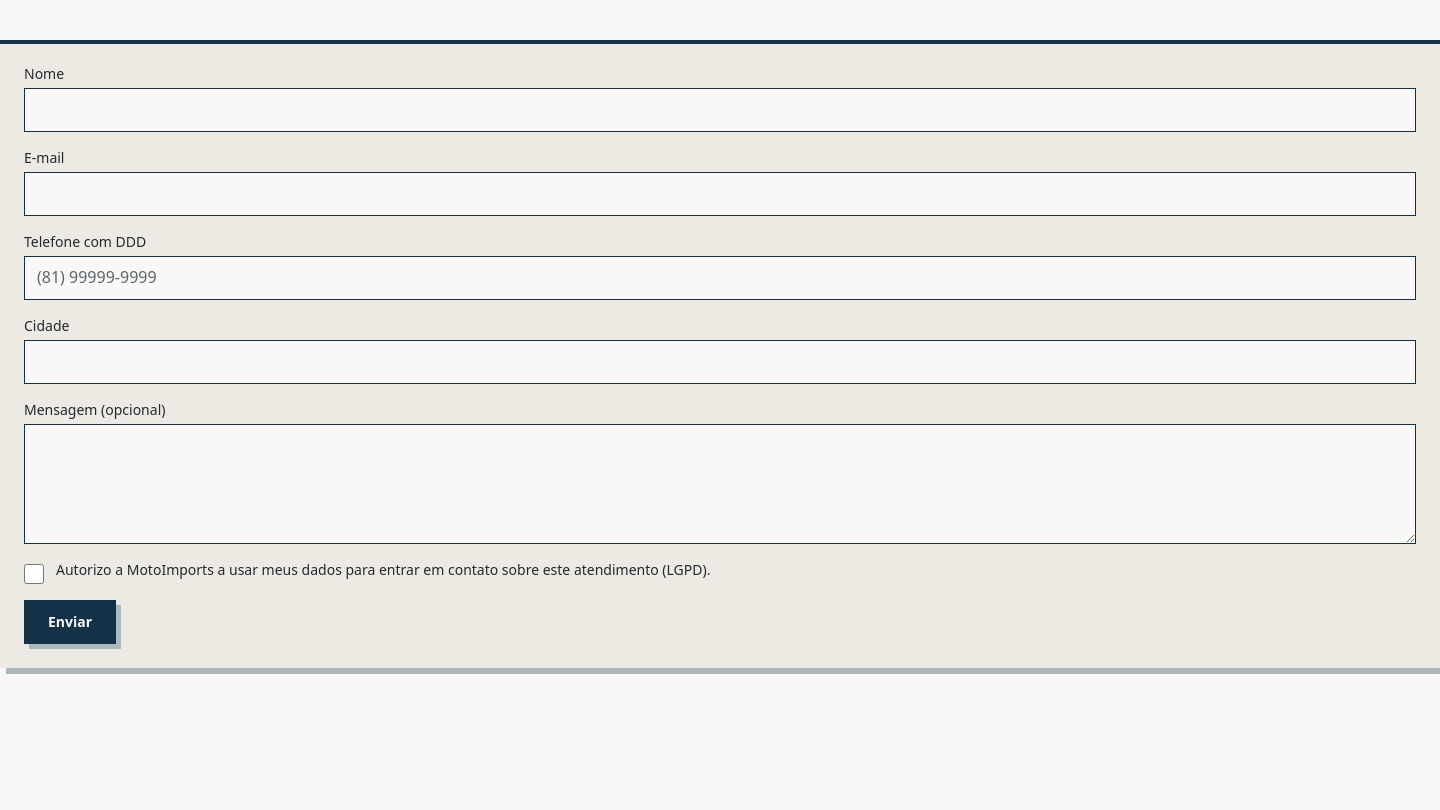
Scenario: RF-01 · LeadForm › exige a cidade
The image size is (1440, 810).
Type "Maria Silva" into the field labelled "Nome" at (720, 110), box top-left (24, 88), bottom-right (1416, 132)
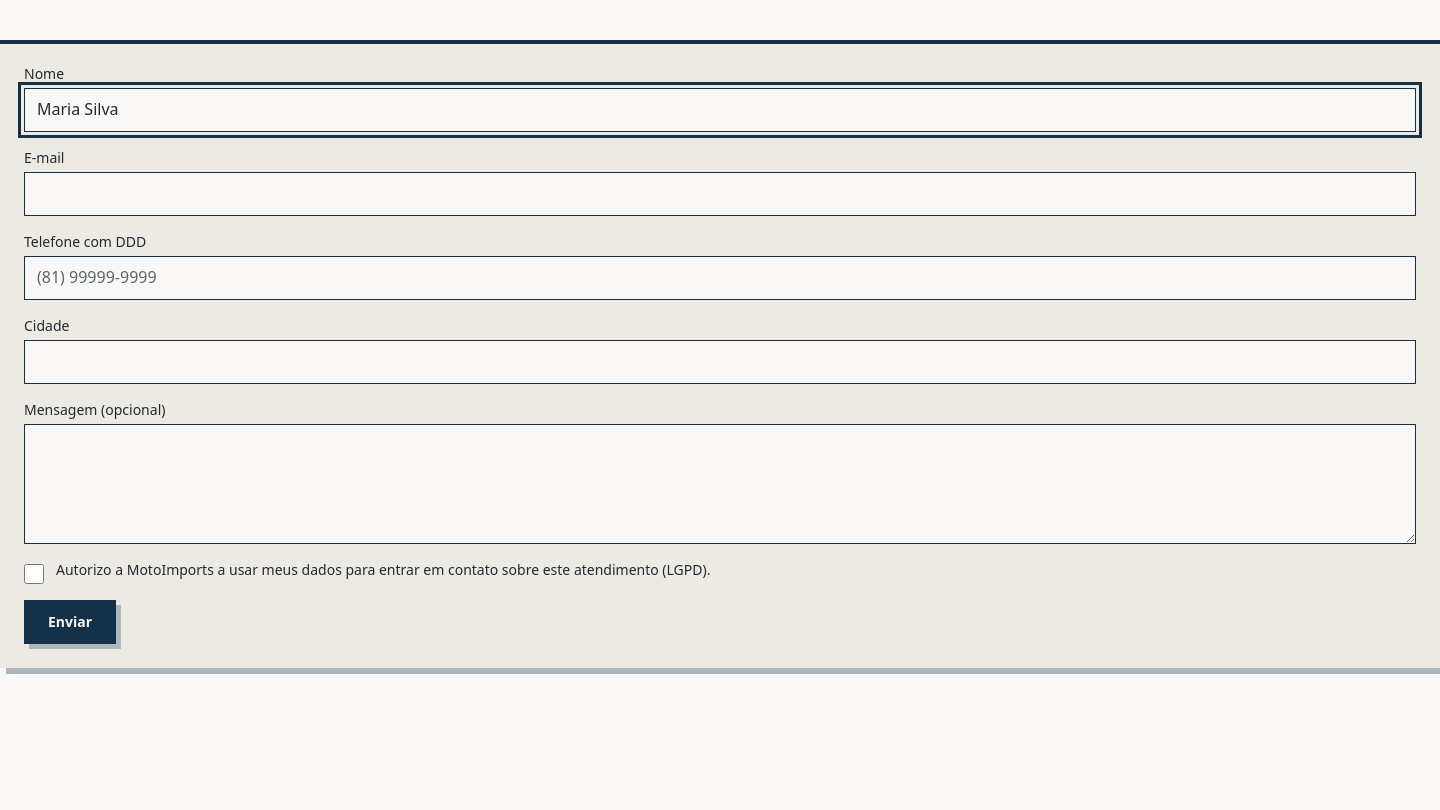
Type "m@e.com" into the field labelled "E-mail" at (720, 194), box top-left (24, 172), bottom-right (1416, 216)
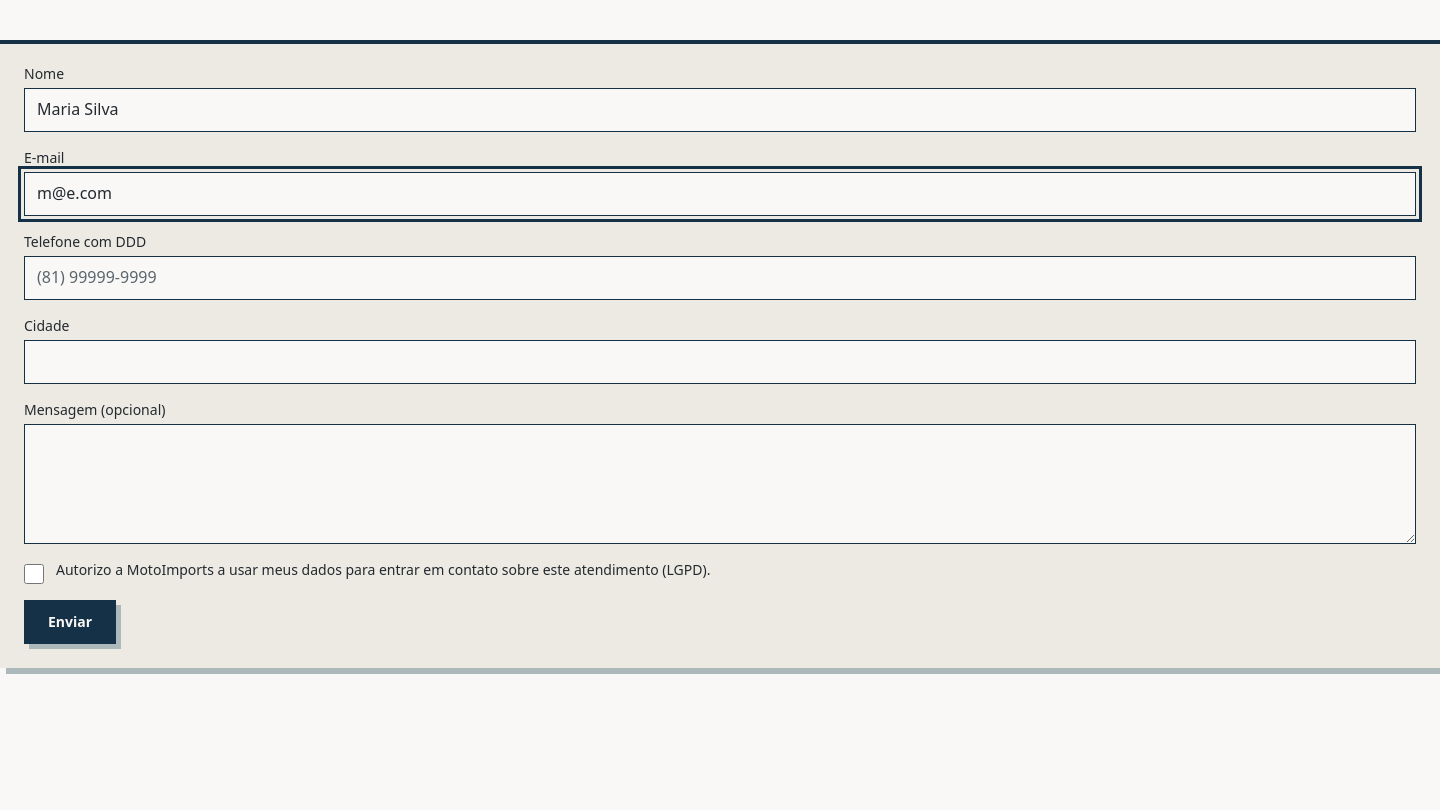
Type "8133334444" into the field labelled "Telefone com DDD" at (720, 278), box top-left (24, 256), bottom-right (1416, 300)
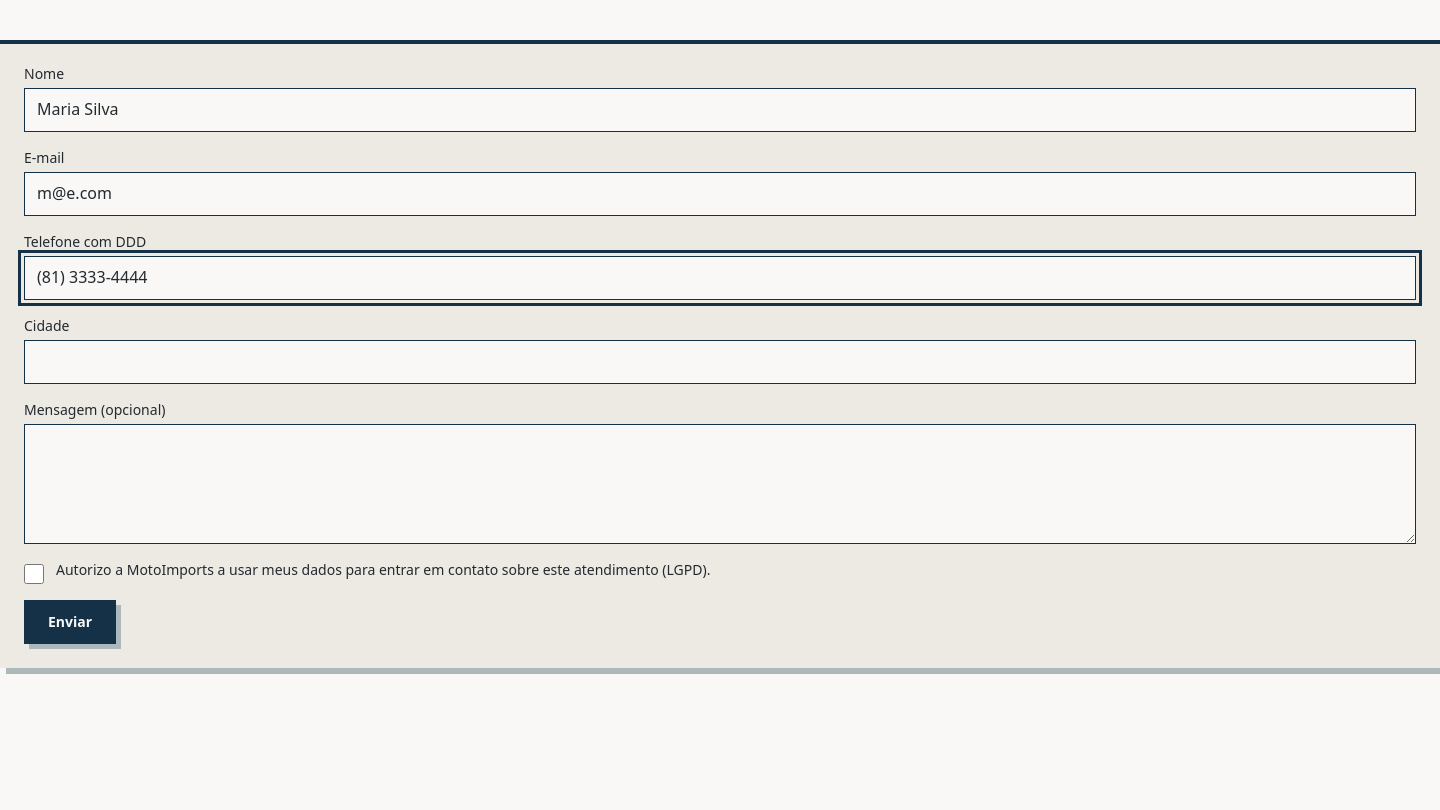
Click the checkbox labelled "Autorizo a MotoImports" at (34, 574), box top-left (24, 564), bottom-right (44, 584)
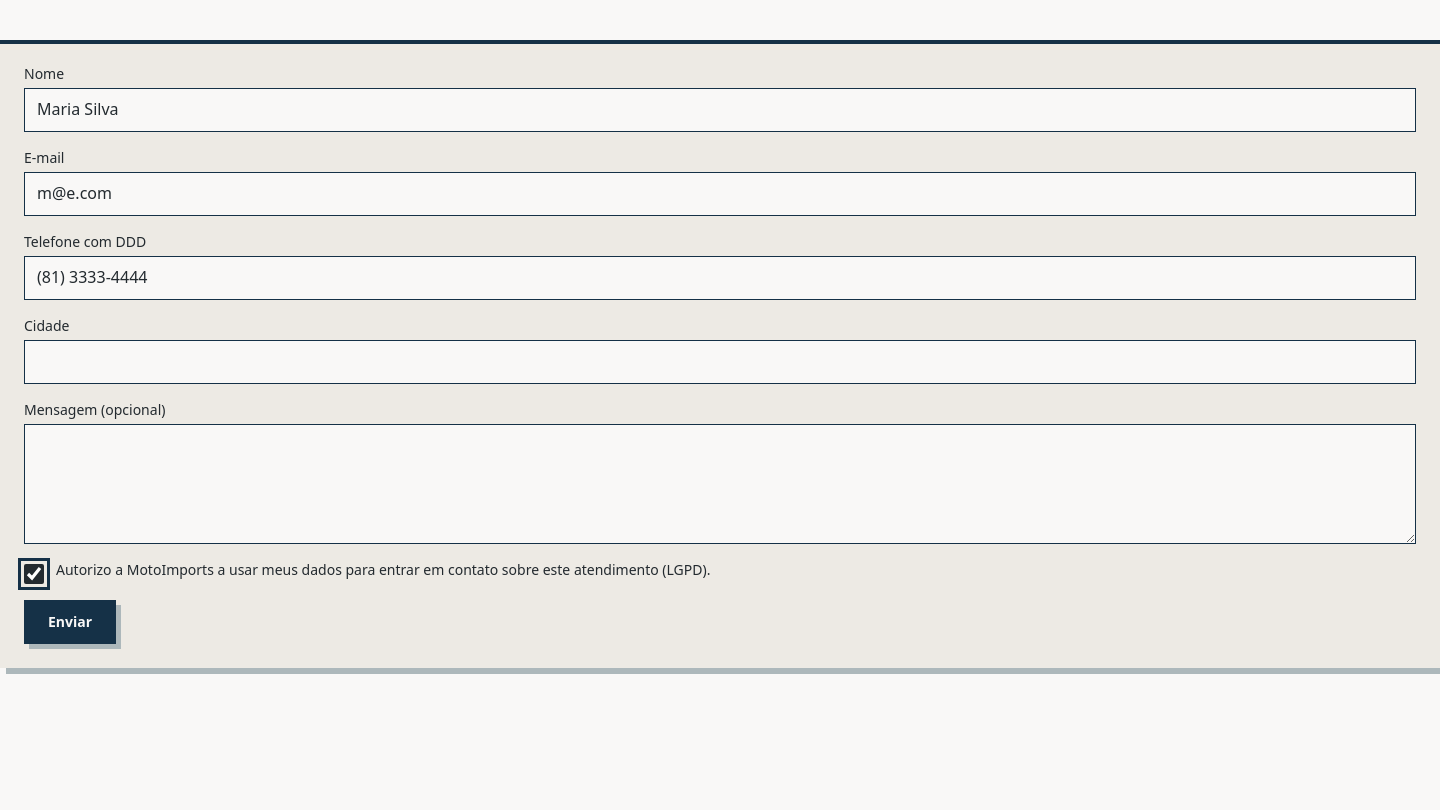
Click the button "Enviar" at (70, 622), box top-left (24, 600), bottom-right (116, 644)
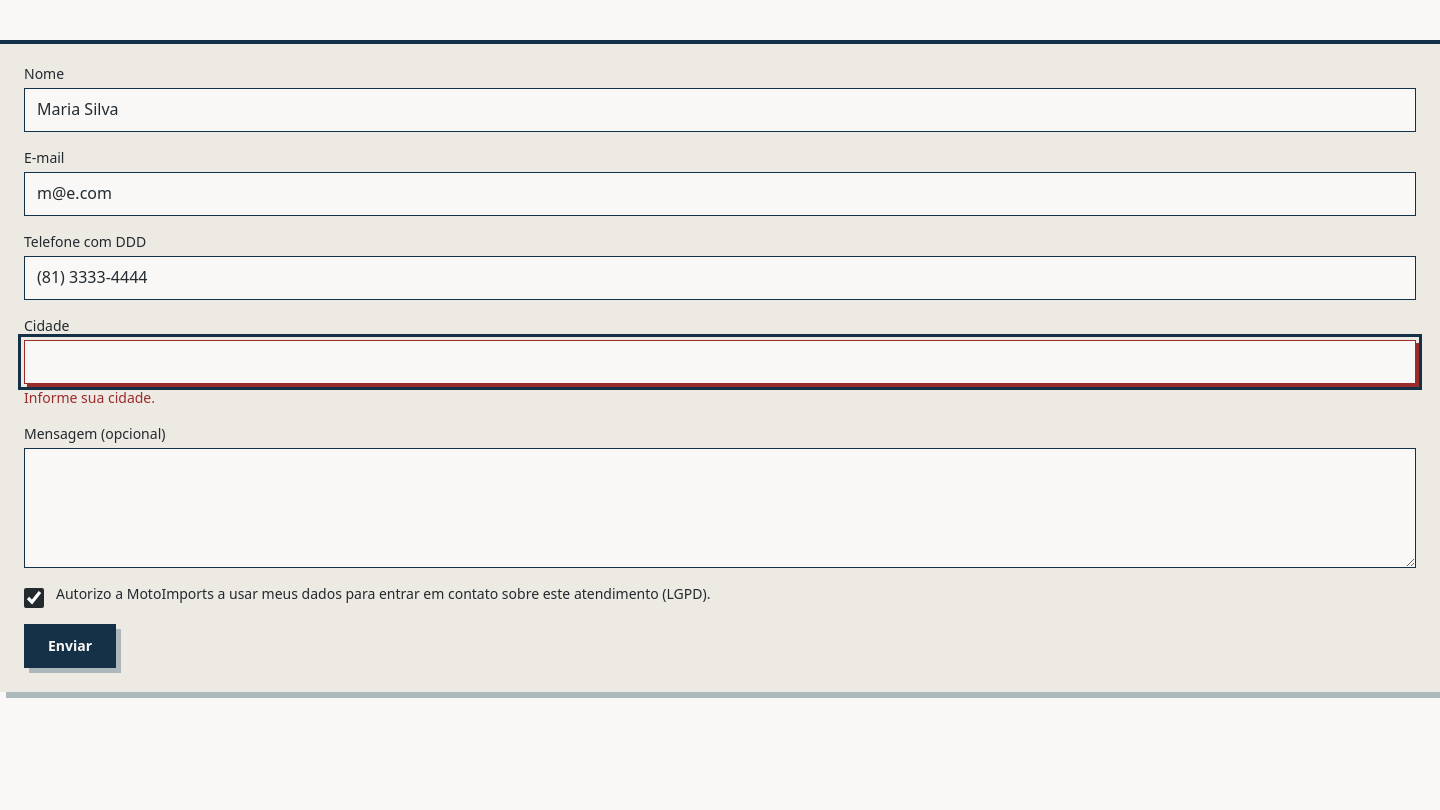
Expected: the text "Informe sua cidade." is shown, top-left (24, 388), bottom-right (155, 407)
